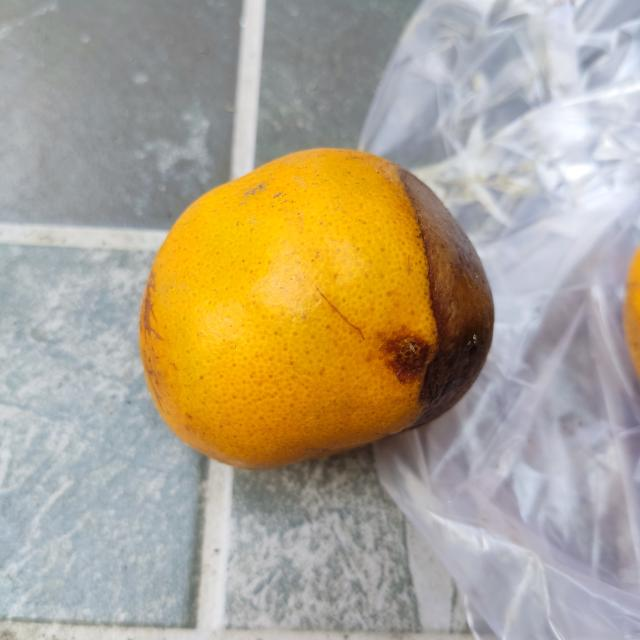orange: (133, 143, 499, 478)
